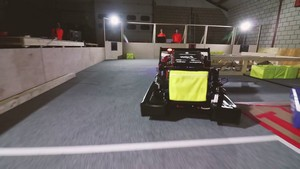cube: (168, 68, 207, 103)
